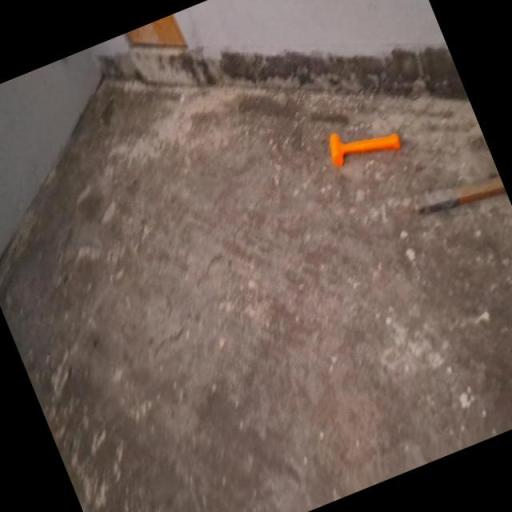mallet: (326, 110, 404, 176)
